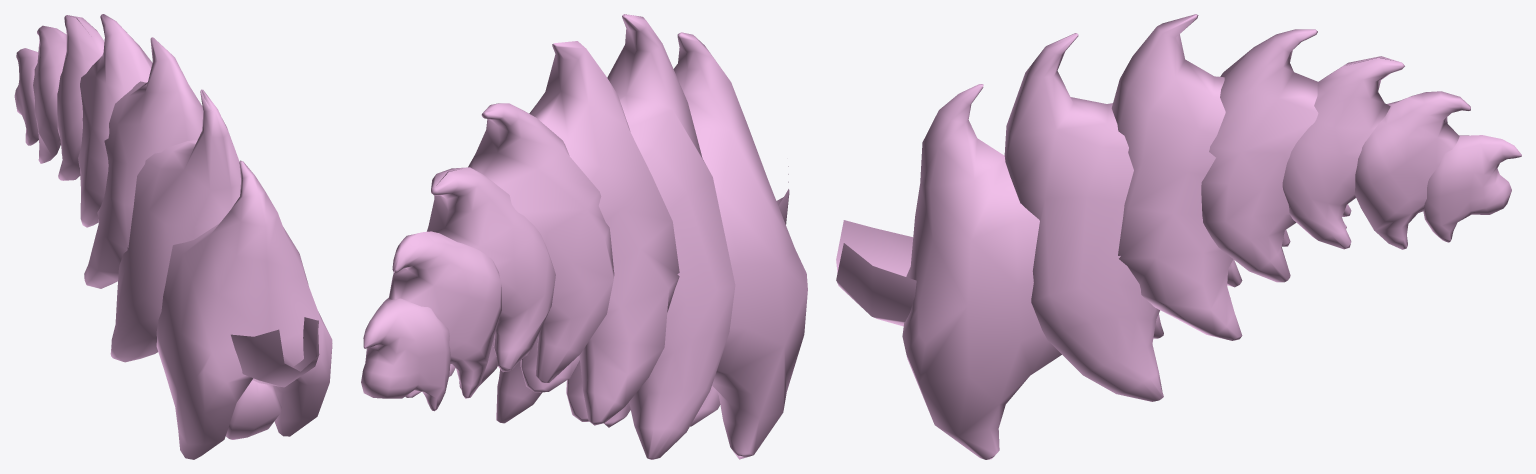
The model's file is Shrimp_Tail_ANylon.fbx.
3 renders of one model, left to right at view 1: azimuth 30°, elevation 25°; view 2: azimuth 150°, elevation 25°; view 3: azimuth 270°, elevation 25°, orthographic. The views are drawn at different scales.
Visible parts, largest first — view 1: tail_shell_low.001, Tail_shell_1_low.001, tail_shell_2_low.001, tail_shell_3_low.001, tail_shell_4_low.001, Guts_low.001, tail_shell_5_low.001, swimeret_low.020, tail_shell_end_low.001; view 2: Tail_shell_1_low.001, tail_shell_low.001, tail_shell_2_low.001, tail_shell_3_low.001, tail_shell_4_low.001, tail_shell_5_low.001, tail_shell_end_low.001, swimeret_low.008, swimeret_low.007, swimeret_low.020; view 3: tail_shell_low.001, Tail_shell_1_low.001, tail_shell_2_low.001, tail_shell_3_low.001, tail_shell_4_low.001, tail_shell_5_low.001, tail_shell_end_low.001, Guts_low.001.
Part boxes in pixels (<box>): tail_shell_low.001: <box>156,160,332,459</box>; Tail_shell_1_low.001: <box>110,89,240,362</box>; tail_shell_2_low.001: <box>84,37,203,288</box>; tail_shell_3_low.001: <box>78,14,152,227</box>; tail_shell_4_low.001: <box>57,15,104,180</box>; Guts_low.001: <box>231,317,319,387</box>; tail_shell_5_low.001: <box>33,25,66,163</box>; swimeret_low.020: <box>226,380,281,439</box>; tail_shell_end_low.001: <box>14,48,38,145</box>; Tail_shell_1_low.001: <box>496,14,735,459</box>; tail_shell_low.001: <box>604,32,807,459</box>; tail_shell_2_low.001: <box>459,41,679,425</box>; tail_shell_3_low.001: <box>468,103,614,382</box>; tail_shell_4_low.001: <box>427,167,555,372</box>; tail_shell_5_low.001: <box>389,231,501,398</box>; tail_shell_end_low.001: <box>361,297,450,411</box>; swimeret_low.008: <box>520,336,579,392</box>; swimeret_low.007: <box>566,360,588,421</box>; swimeret_low.020: <box>690,386,720,426</box>; tail_shell_low.001: <box>902,84,1061,459</box>; Tail_shell_1_low.001: <box>1004,33,1163,401</box>; tail_shell_2_low.001: <box>1111,14,1242,340</box>; tail_shell_3_low.001: <box>1201,29,1318,282</box>; tail_shell_4_low.001: <box>1282,56,1404,249</box>; tail_shell_5_low.001: <box>1354,91,1470,249</box>; tail_shell_end_low.001: <box>1423,135,1521,242</box>; Guts_low.001: <box>836,220,916,326</box>.
Bounding box in the file's own units: 34.66 × 82.74 × 123.
